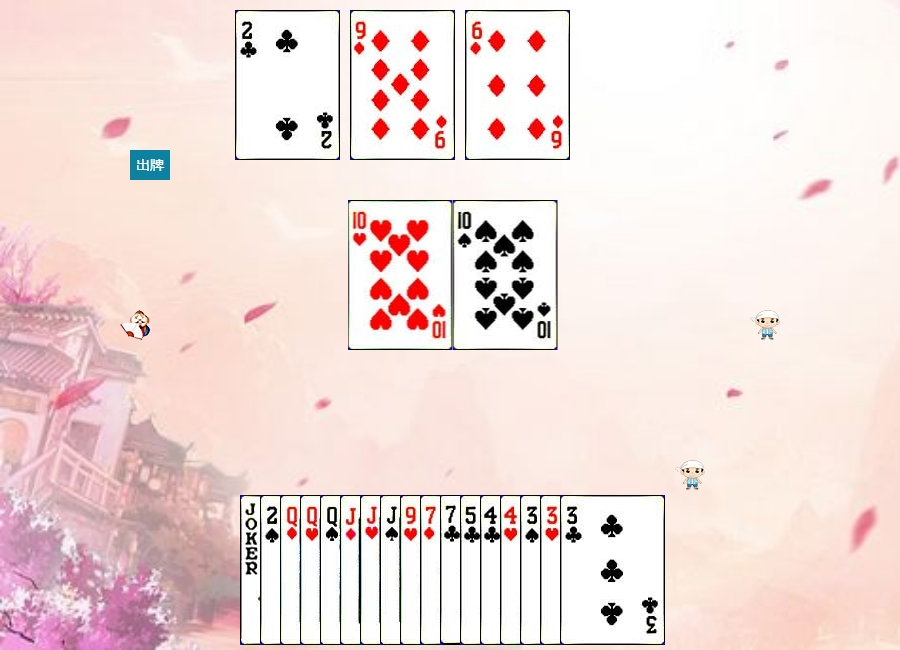10~3: (348, 200, 453, 350)
10~4: (453, 200, 558, 350)
11~1: (340, 495, 445, 645)
11~3: (360, 495, 465, 645)
11~4: (380, 495, 485, 645)
12~1: (280, 495, 385, 645)
12~3: (300, 495, 405, 645)
12~4: (320, 495, 425, 645)
15~2: (235, 10, 340, 160)
15~4: (260, 495, 365, 645)
17~3: (240, 495, 345, 645)
3~2: (560, 495, 665, 645)
3~3: (540, 495, 645, 645)
3~4: (520, 495, 625, 645)
4~2: (480, 495, 585, 645)
4~3: (500, 495, 605, 645)
5~2: (460, 495, 565, 645)
6~1: (465, 10, 570, 160)
7~1: (420, 495, 525, 645)
7~2: (440, 495, 545, 645)
9~1: (350, 10, 455, 160)
9~3: (400, 495, 505, 645)
